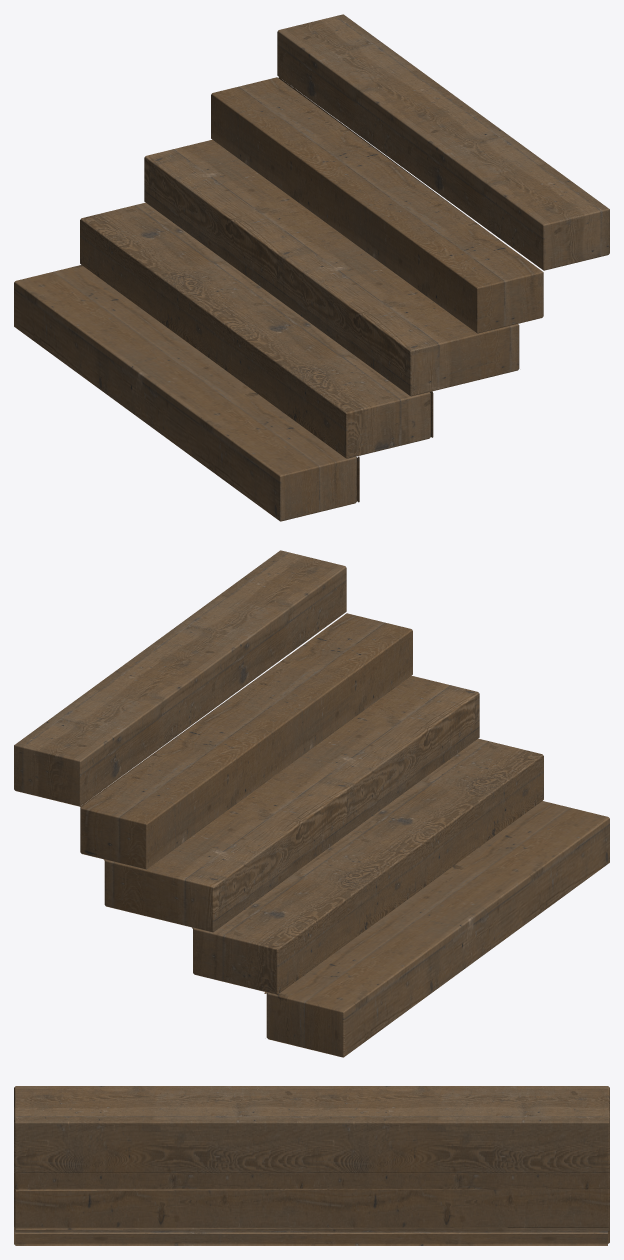
File: SM_Stair04B.fbx
The picture shows the model from 3 angles, top to bottom: view 1: azimuth 30°, elevation 25°; view 2: azimuth 150°, elevation 25°; view 3: azimuth 270°, elevation 25°; orthographic projection. The views are drawn at different scales.
Parts seen in each view (by area): view 1: SM_Stair04B; view 2: SM_Stair04B; view 3: SM_Stair04B.
Part boxes in pixels (<box>): SM_Stair04B: <box>14,14,609,521</box>; SM_Stair04B: <box>14,550,609,1057</box>; SM_Stair04B: <box>14,1086,609,1245</box>.
Bounding box in the file's own units: 176 × 246 × 119.
1 material, 1 textured.
